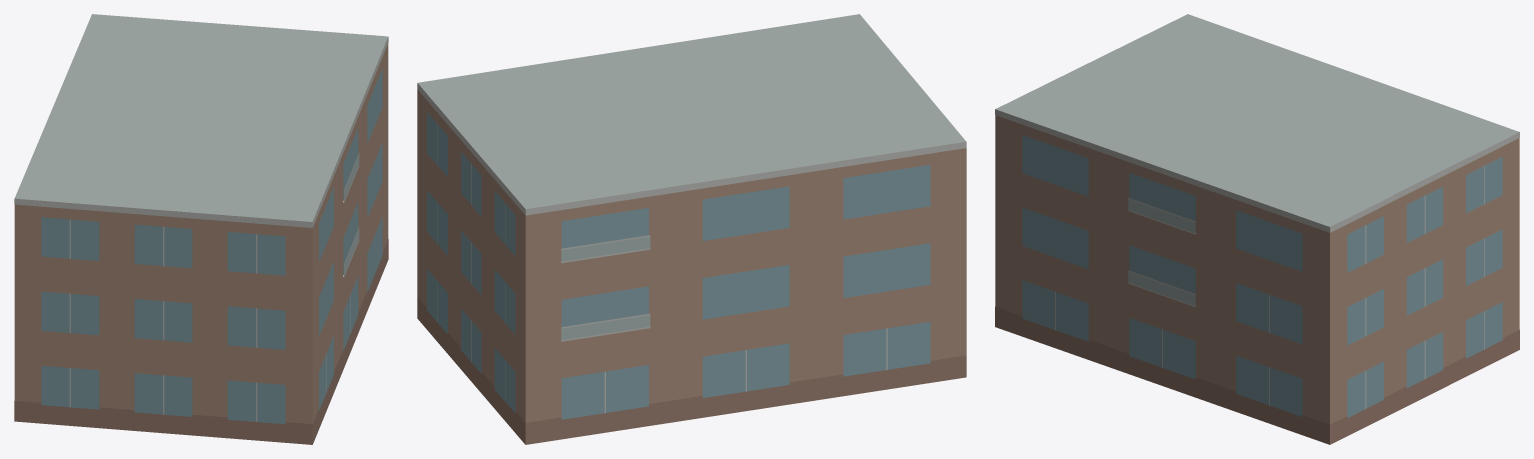
File: survey-upis-32847662.glb
3 renders of one model, left to right at view 1: azimuth 30°, elevation 25°; view 2: azimuth 150°, elevation 25°; view 3: azimuth 270°, elevation 25°, orthographic. The views are drawn at different scales.
Parts seen in each view (by area): view 1: survey-upis-32847662.tmp; view 2: survey-upis-32847662.tmp; view 3: survey-upis-32847662.tmp.
Part boxes in pixels (x1,y1,x2,y2): survey-upis-32847662.tmp: [14, 14, 388, 444]; survey-upis-32847662.tmp: [417, 14, 966, 444]; survey-upis-32847662.tmp: [995, 14, 1519, 444].
Bounding box in the file's own units: 19.21 × 9.15 × 19.98.
